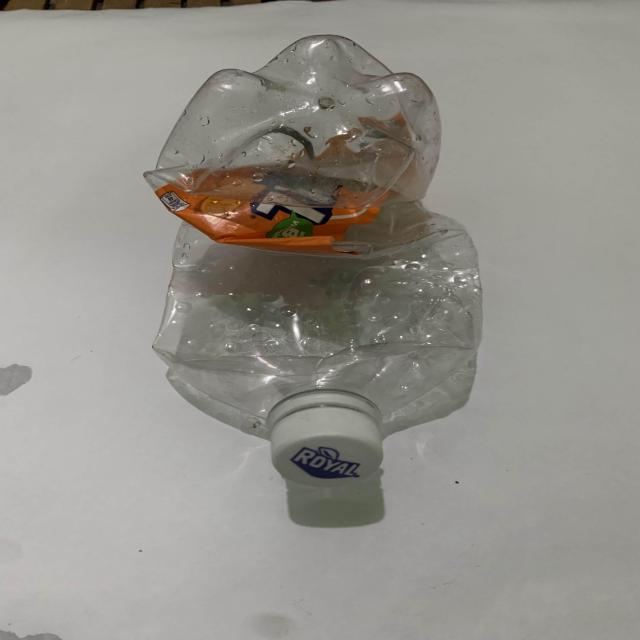bottle: (145, 24, 502, 499)
